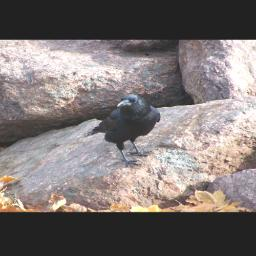Crow: (76, 91, 161, 169)
